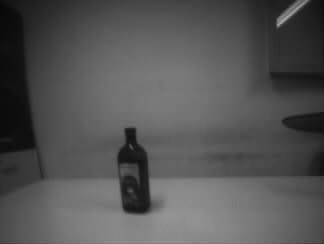Bottle: (114, 125, 153, 214)
